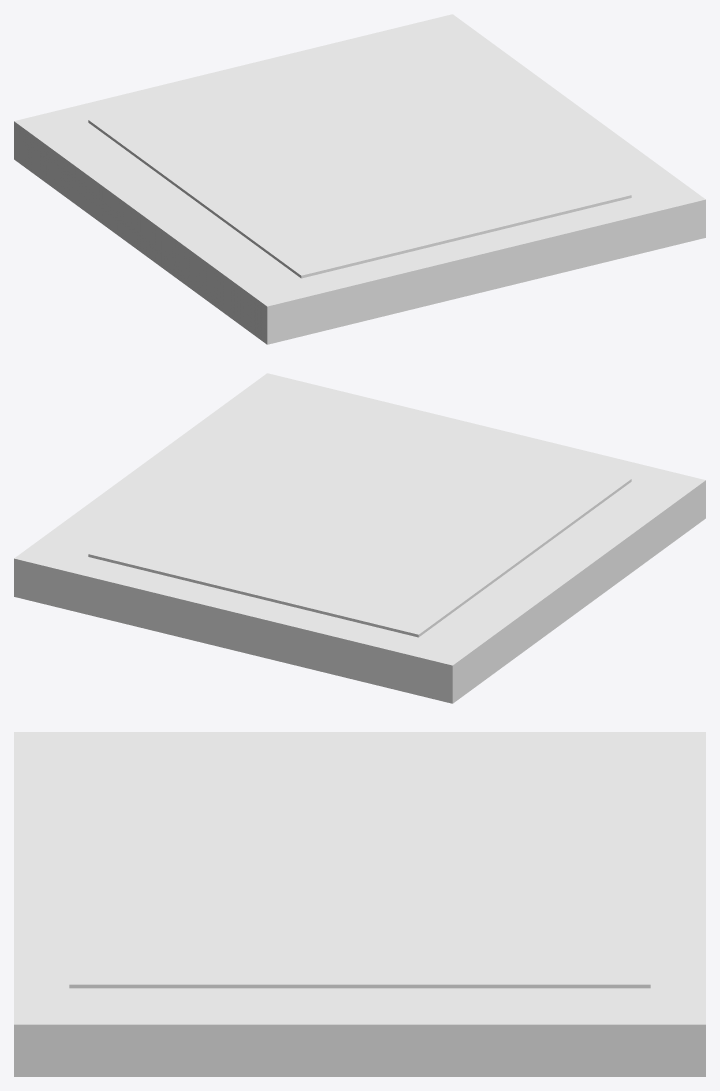
File: calibration.obj
The picture shows the model from 3 angles, top to bottom: view 1: azimuth 30°, elevation 25°; view 2: azimuth 150°, elevation 25°; view 3: azimuth 270°, elevation 25°; orthographic projection. The views are drawn at different scales.
Parts seen in each view (by area): view 1: Cube_Cube.021; view 2: Cube_Cube.021; view 3: Cube_Cube.021.
Boxes of the visible parts, <box> form: Cube_Cube.021: <box>14,14,705,344</box>; Cube_Cube.021: <box>14,373,705,703</box>; Cube_Cube.021: <box>14,732,705,1076</box>.
Bounding box in the file's own units: 0.3 × 0.0268 × 0.3.
